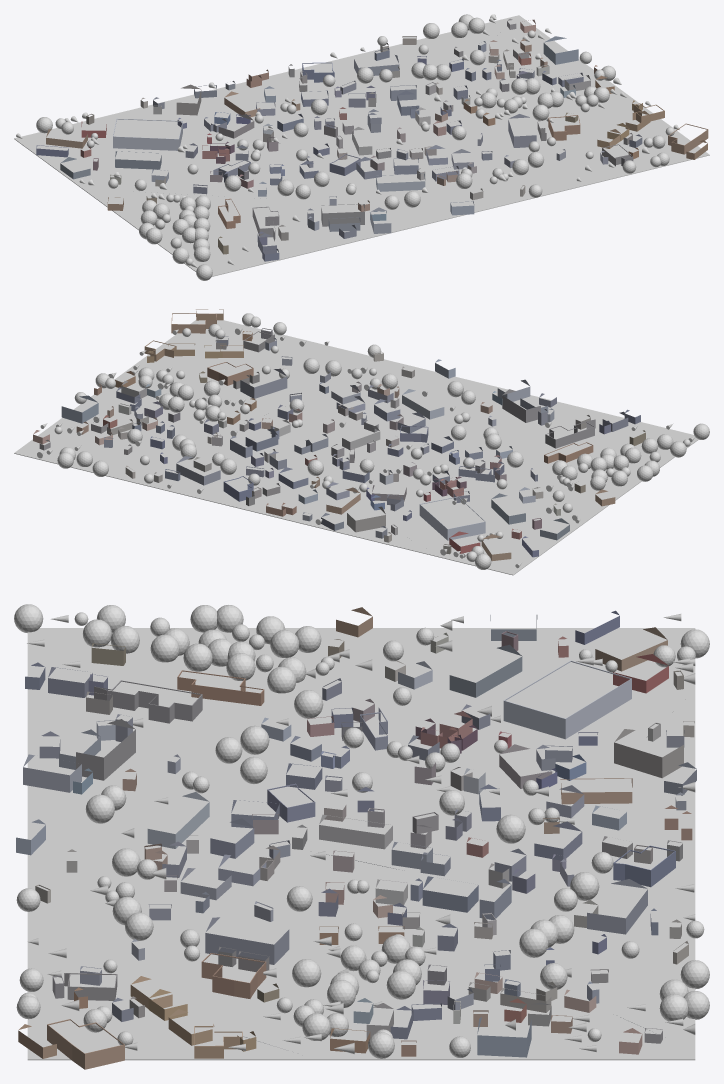
The model's file is scene_64e4b42b-feec-4267-9453-84219b2bee4c.glb.
3 renders of one model, top to bottom at view 1: azimuth 30°, elevation 25°; view 2: azimuth 150°, elevation 25°; view 3: azimuth 270°, elevation 25°, orthographic. The views are drawn at different scales.
Parts seen in each view (by area): view 1: Ground_Base, BLD-001, BLD-010, BLD-005, BLD-012, BLD-003, BLD-004; view 2: Ground_Base, BLD-001, BLD-008, BLD-006, BLD-010, BLD-009, BLD-012, BLD-002, BLD-007, BLD-005, BLD-022; view 3: Ground_Base, BLD-001, BLD-008, BLD-006, BLD-009, BLD-010, BLD-005, BLD-022, BLD-007, BLD-004, BLD-017, BLD-011 (+13 smaller).
Boxes of the visible parts, x1=… form: Ground_Base: x1=14, y1=15, x2=709, y2=276; BLD-001: x1=113, y1=118, x2=182, y2=150; BLD-010: x1=321, y1=204, x2=364, y2=226; BLD-005: x1=668, y1=123, x2=708, y2=154; BLD-012: x1=543, y1=36, x2=578, y2=64; BLD-003: x1=376, y1=173, x2=425, y2=191; BLD-004: x1=115, y1=151, x2=161, y2=169; Ground_Base: x1=14, y1=320, x2=698, y2=575; BLD-001: x1=419, y1=496, x2=485, y2=540; BLD-008: x1=545, y1=419, x2=595, y2=448; BLD-006: x1=240, y1=368, x2=287, y2=398; BLD-010: x1=502, y1=389, x2=540, y2=422; BLD-009: x1=347, y1=506, x2=385, y2=532; BLD-012: x1=61, y1=395, x2=98, y2=423; BLD-002: x1=176, y1=456, x2=220, y2=485; BLD-007: x1=207, y1=362, x2=253, y2=385; BLD-005: x1=171, y1=313, x2=216, y2=333; BLD-022: x1=544, y1=442, x2=593, y2=463; Ground_Base: x1=27, y1=628, x2=695, y2=1060; BLD-001: x1=503, y1=660, x2=631, y2=739; BLD-008: x1=94, y1=680, x2=202, y2=723; BLD-006: x1=205, y1=917, x2=289, y2=964; BLD-009: x1=614, y1=729, x2=683, y2=778; BLD-010: x1=76, y1=719, x2=135, y2=780; BLD-005: x1=47, y1=1019, x2=124, y2=1069; BLD-022: x1=177, y1=670, x2=264, y2=705; BLD-007: x1=201, y1=953, x2=266, y2=998; BLD-004: x1=449, y1=644, x2=522, y2=697; BLD-017: x1=613, y1=845, x2=675, y2=887; BLD-011: x1=319, y1=814, x2=392, y2=849.
Bounding box in the file's own units: 374 × 14.93 × 244.
